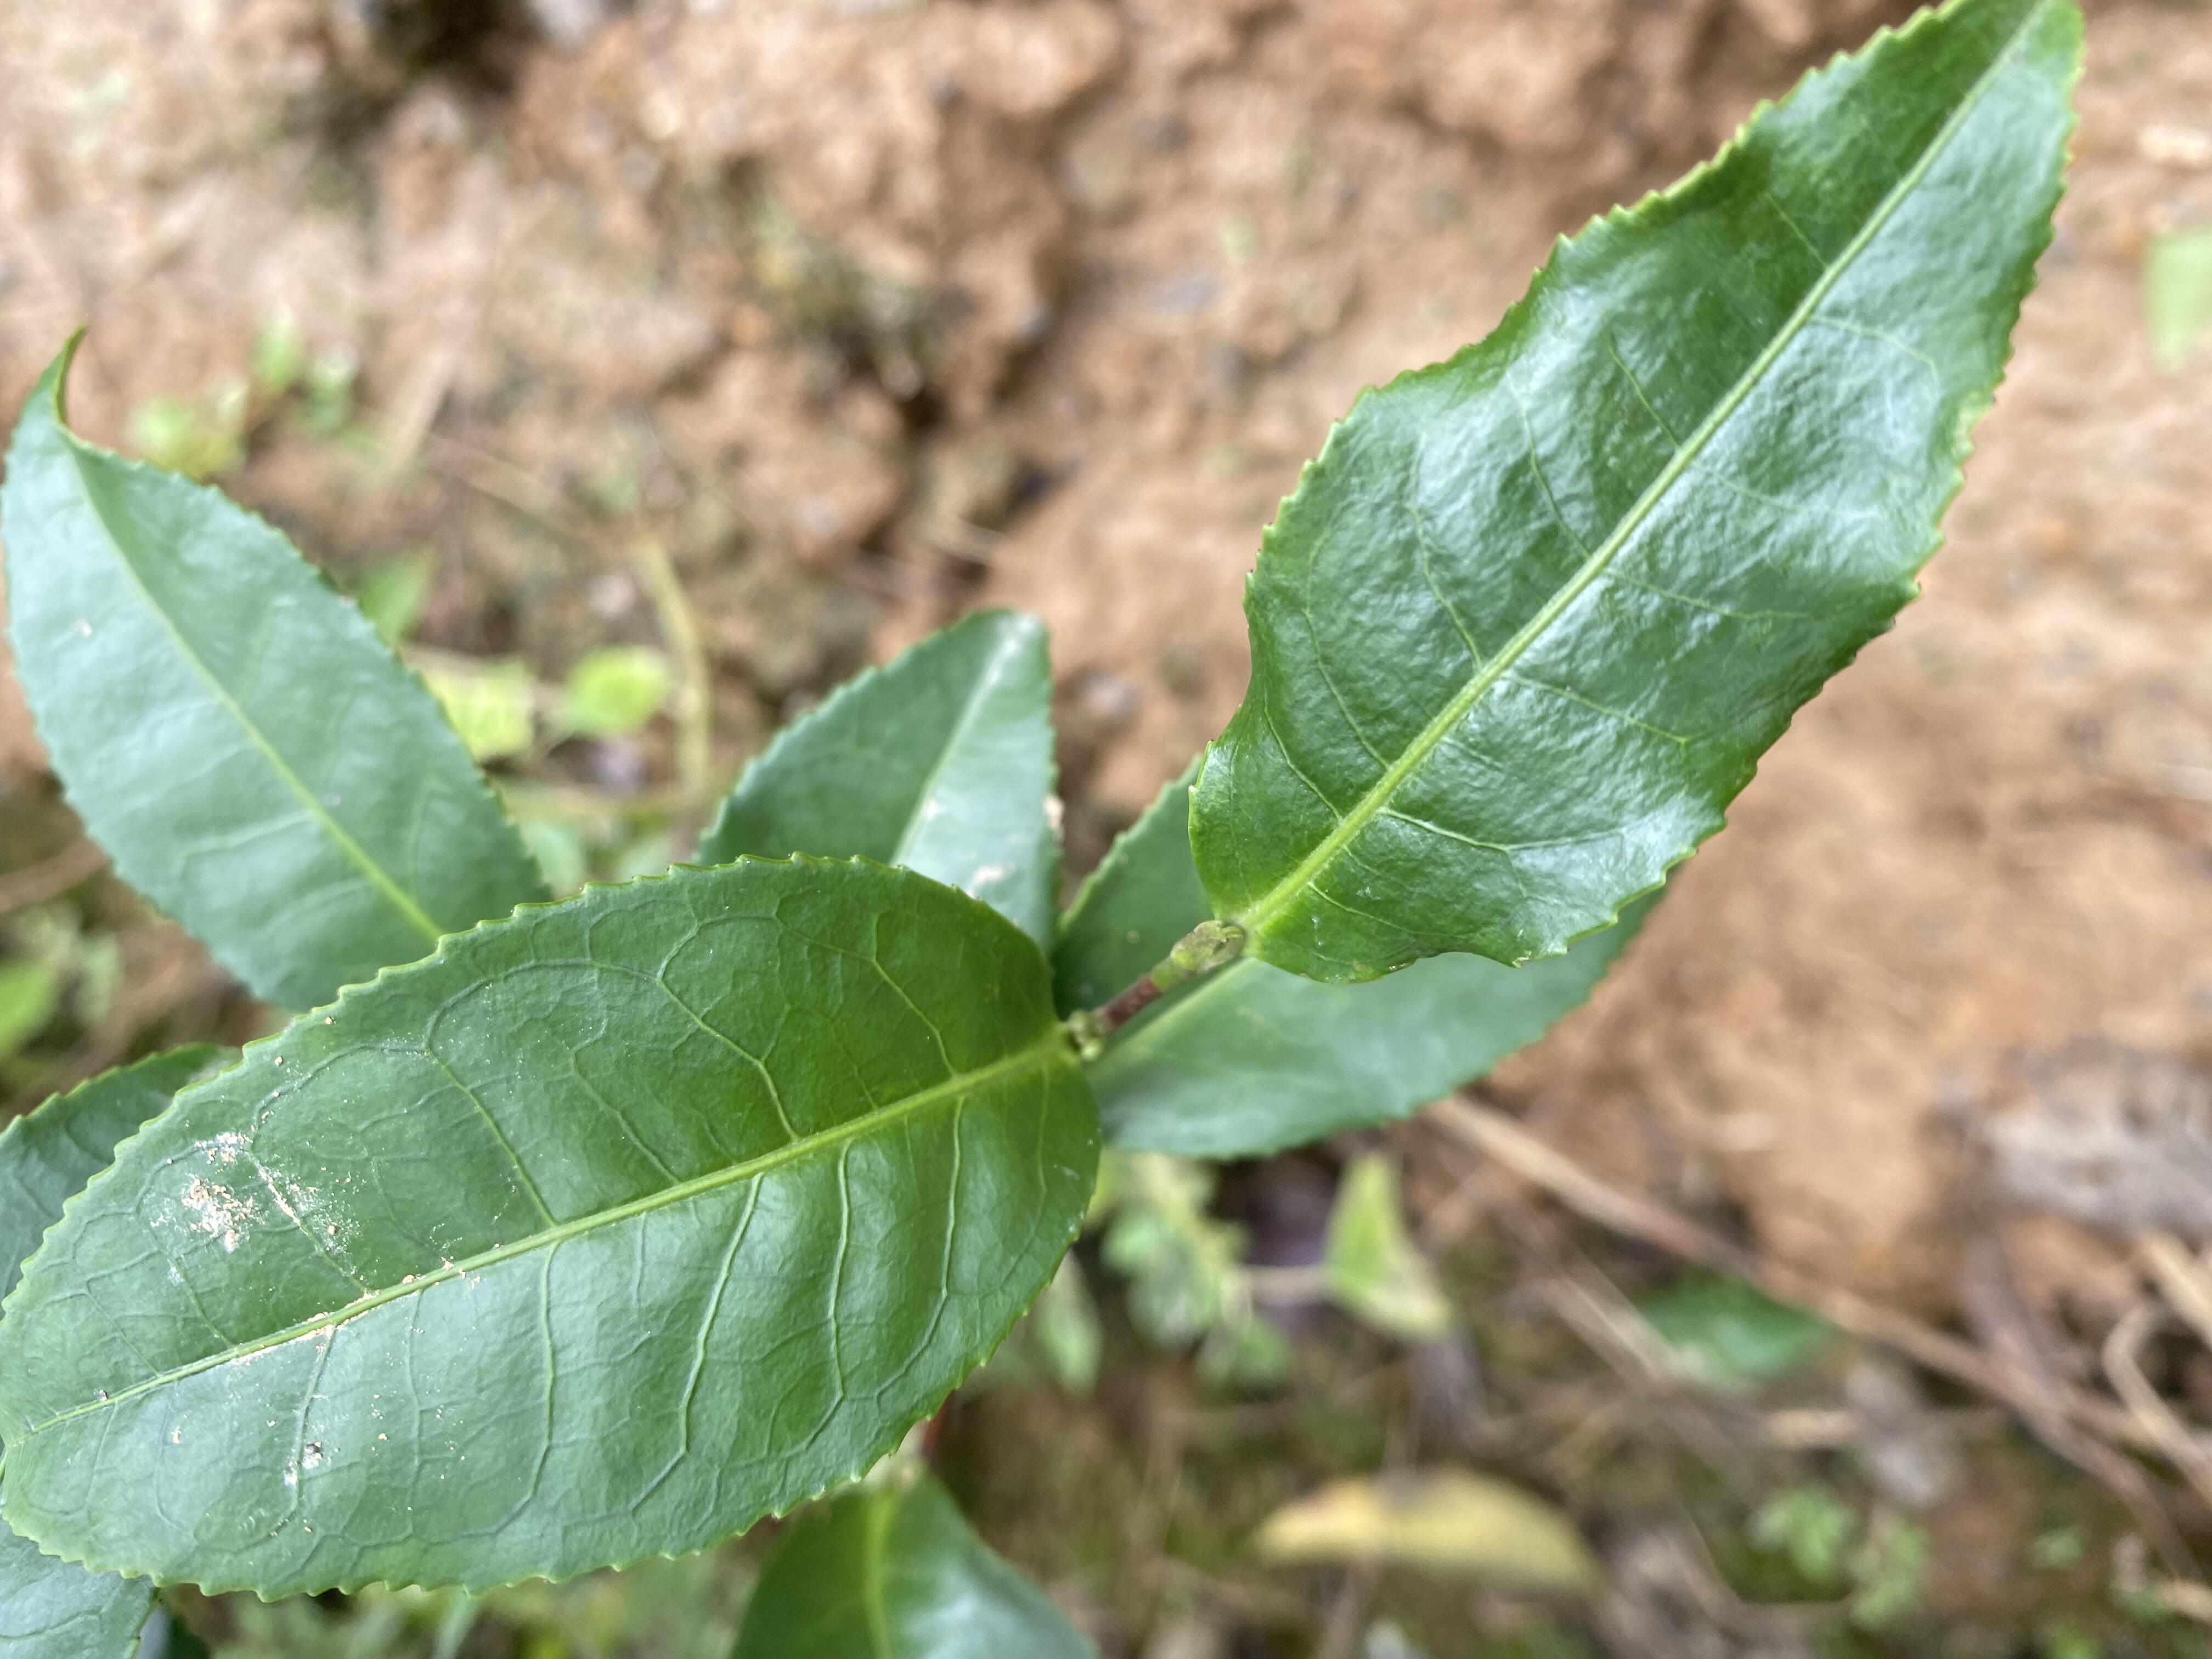healthy: (1190, 3, 2083, 986), (2, 852, 1104, 1605)
